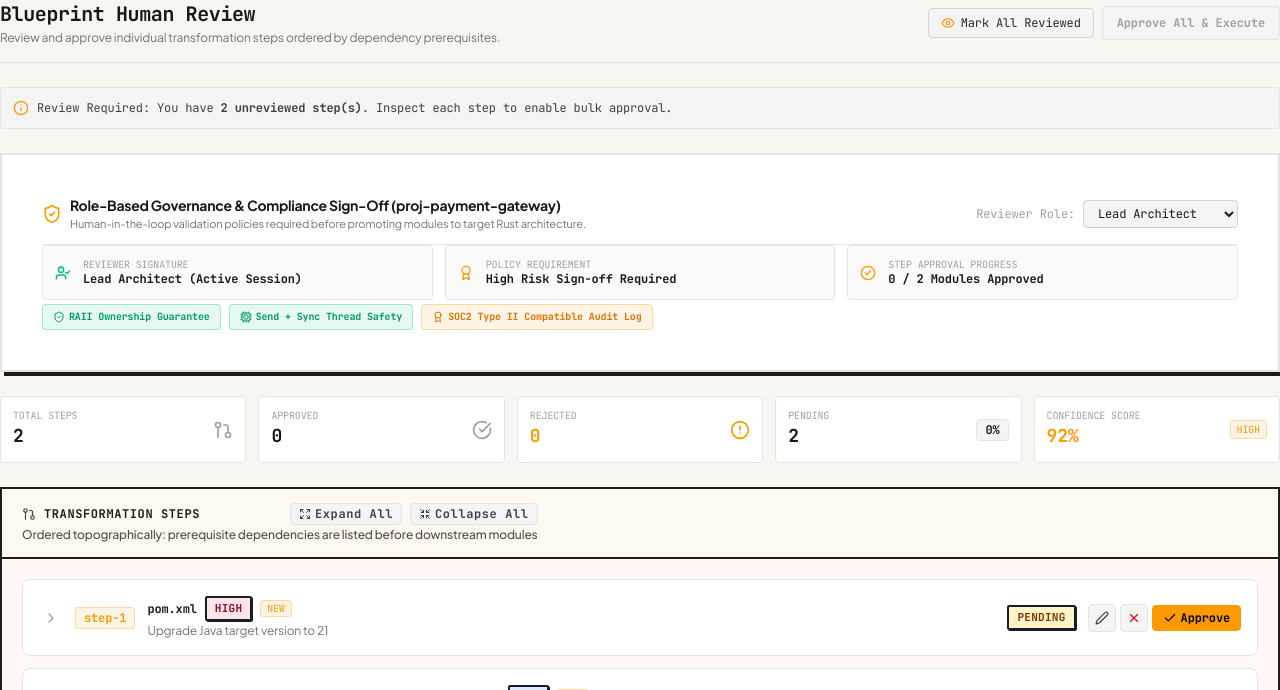
Scenario: BlueprintPage Component Tests › 5. Bulk-approve ('Approve All') is disabled until all steps are reviewed
Expected: the button with test id "approve-all-btn" is disabled, 1102,6 -> 1279,40
# Click 'Mark All Reviewed' button to mark all steps viewed in Zustand store
Step 1. Click the button with test id "mark-all-viewed-btn" → (1011, 23), box 928,8 -> 1094,38
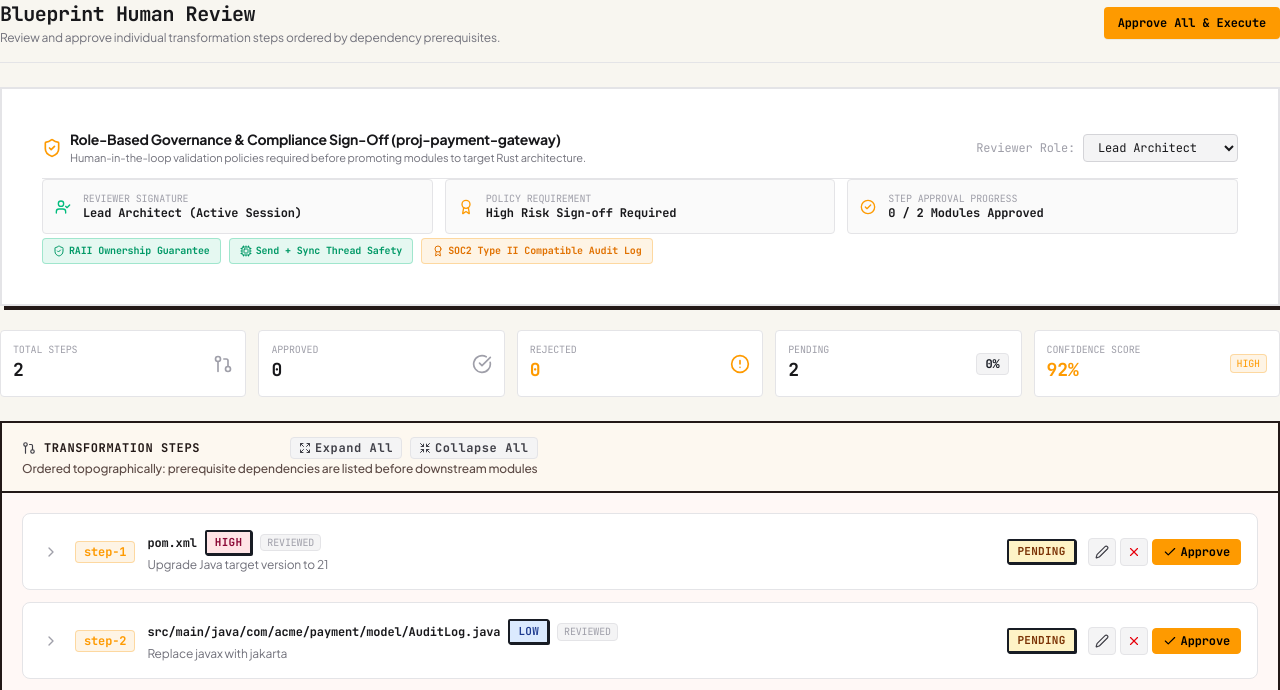
Now the button with test id "approve-all-btn" is enabled, box 1104,7 -> 1279,39
